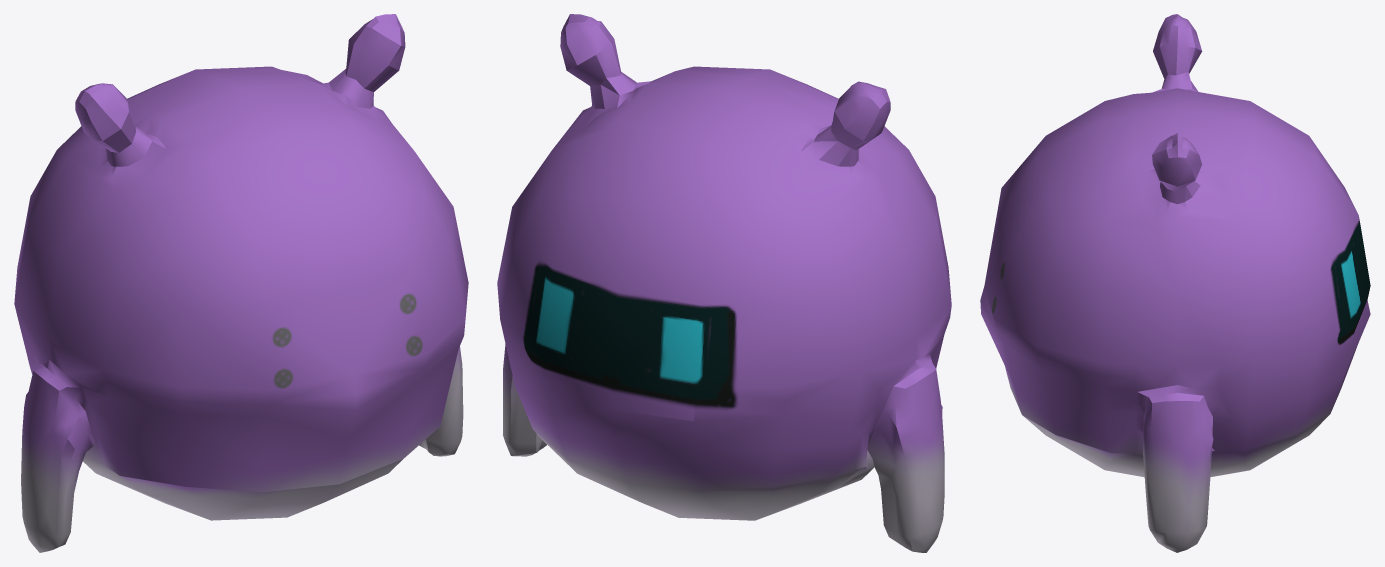
File: Robot 11052022.fbx
The picture shows the model from 3 angles, left to right: view 1: azimuth 30°, elevation 25°; view 2: azimuth 150°, elevation 25°; view 3: azimuth 270°, elevation 25°; orthographic projection. The views are drawn at different scales.
Visible parts, largest first — view 1: Robot; view 2: Robot; view 3: Robot.
Part boxes in pixels (x1,y1,x2,y2): Robot: (14,14,468,552); Robot: (497,14,951,552); Robot: (980,14,1370,552).
Size of the model in its own units: 37.92 by 38.62 by 34.94.
